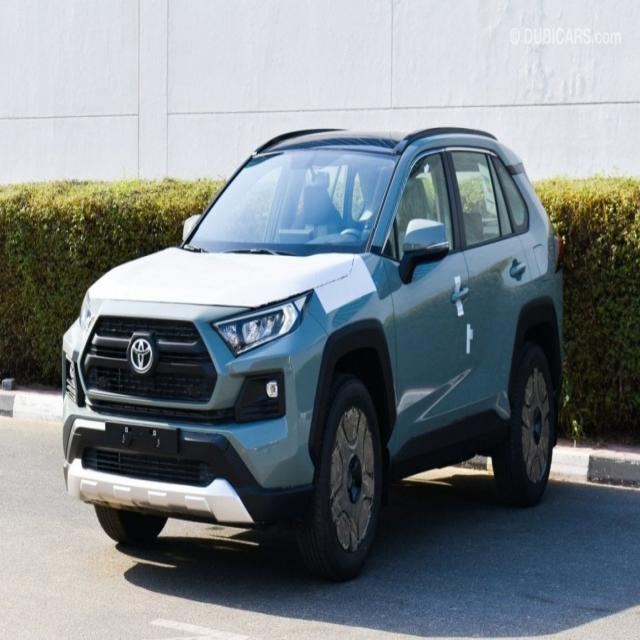light_vehicle: (61, 127, 566, 581)
